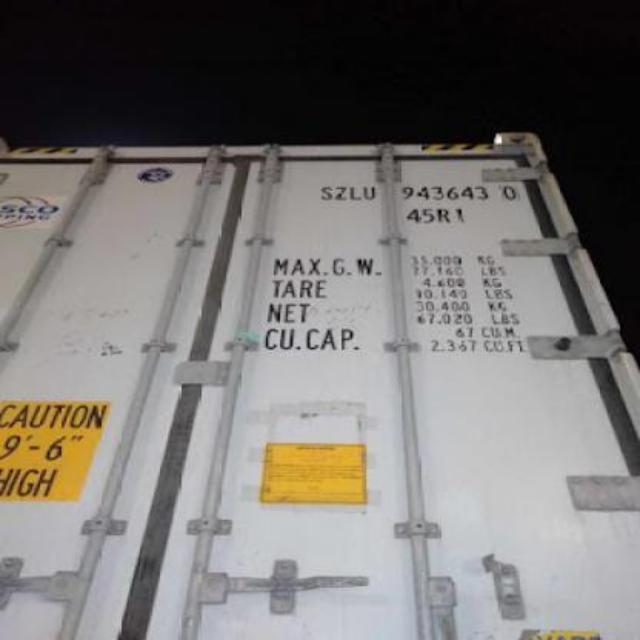0: (500, 185, 520, 203)
3: (430, 185, 446, 201), (474, 184, 490, 200)
4: (460, 183, 476, 201), (418, 184, 432, 200)
6: (446, 186, 459, 202)
9: (401, 186, 414, 198)
L: (350, 186, 362, 200)
S: (321, 184, 334, 200)
U: (362, 185, 376, 201)
Z: (334, 185, 348, 203)
